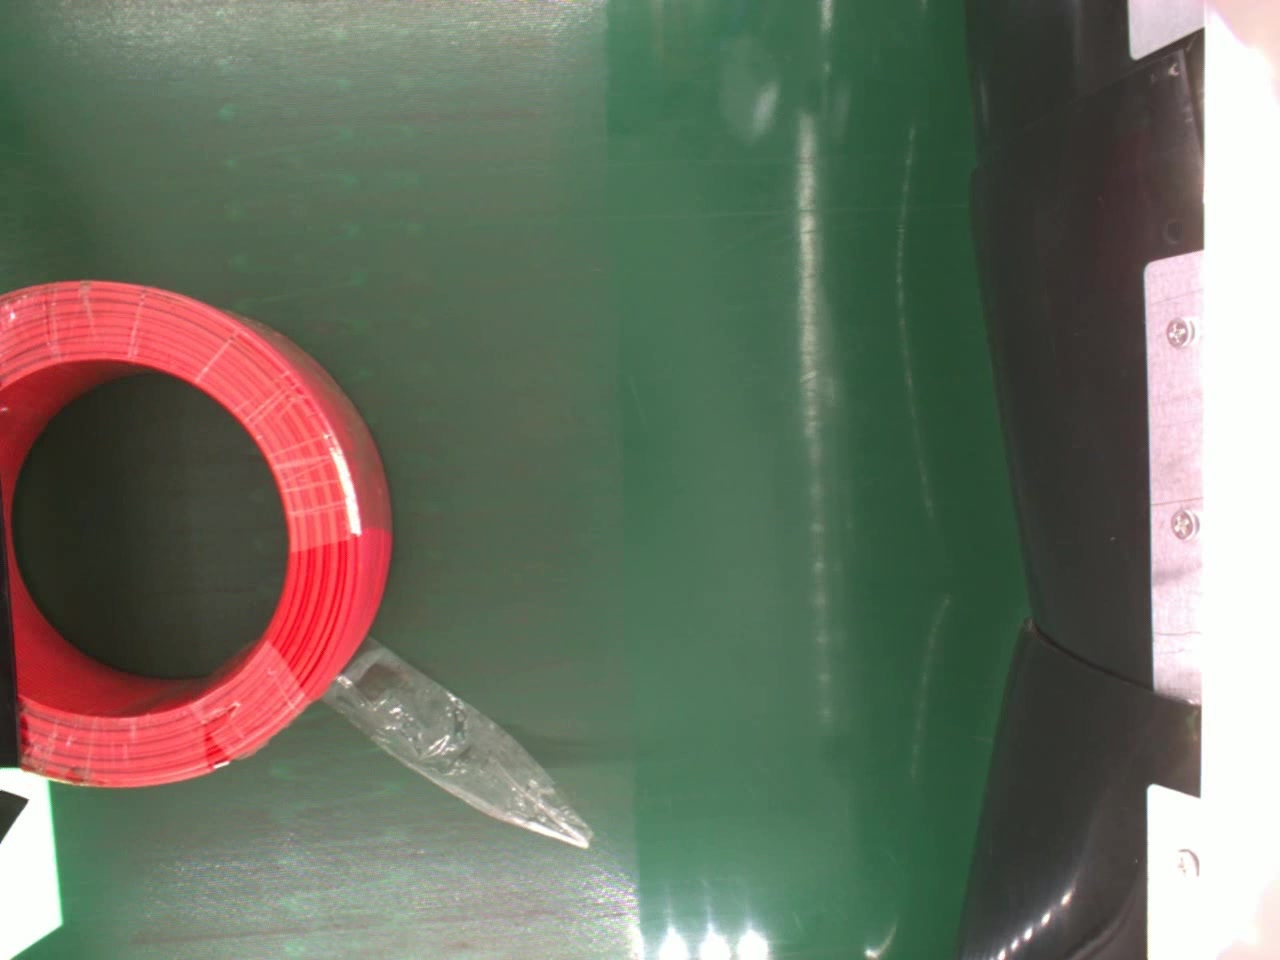red: (0, 274, 394, 791)
